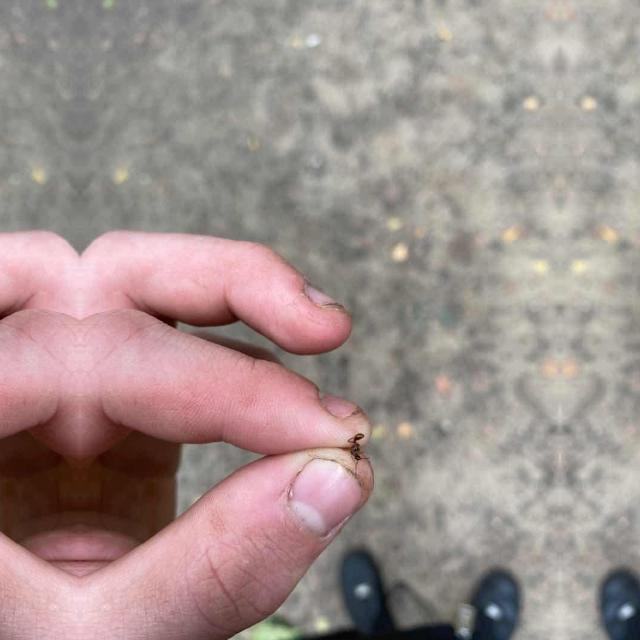Myrmica: (347, 425, 368, 469)
